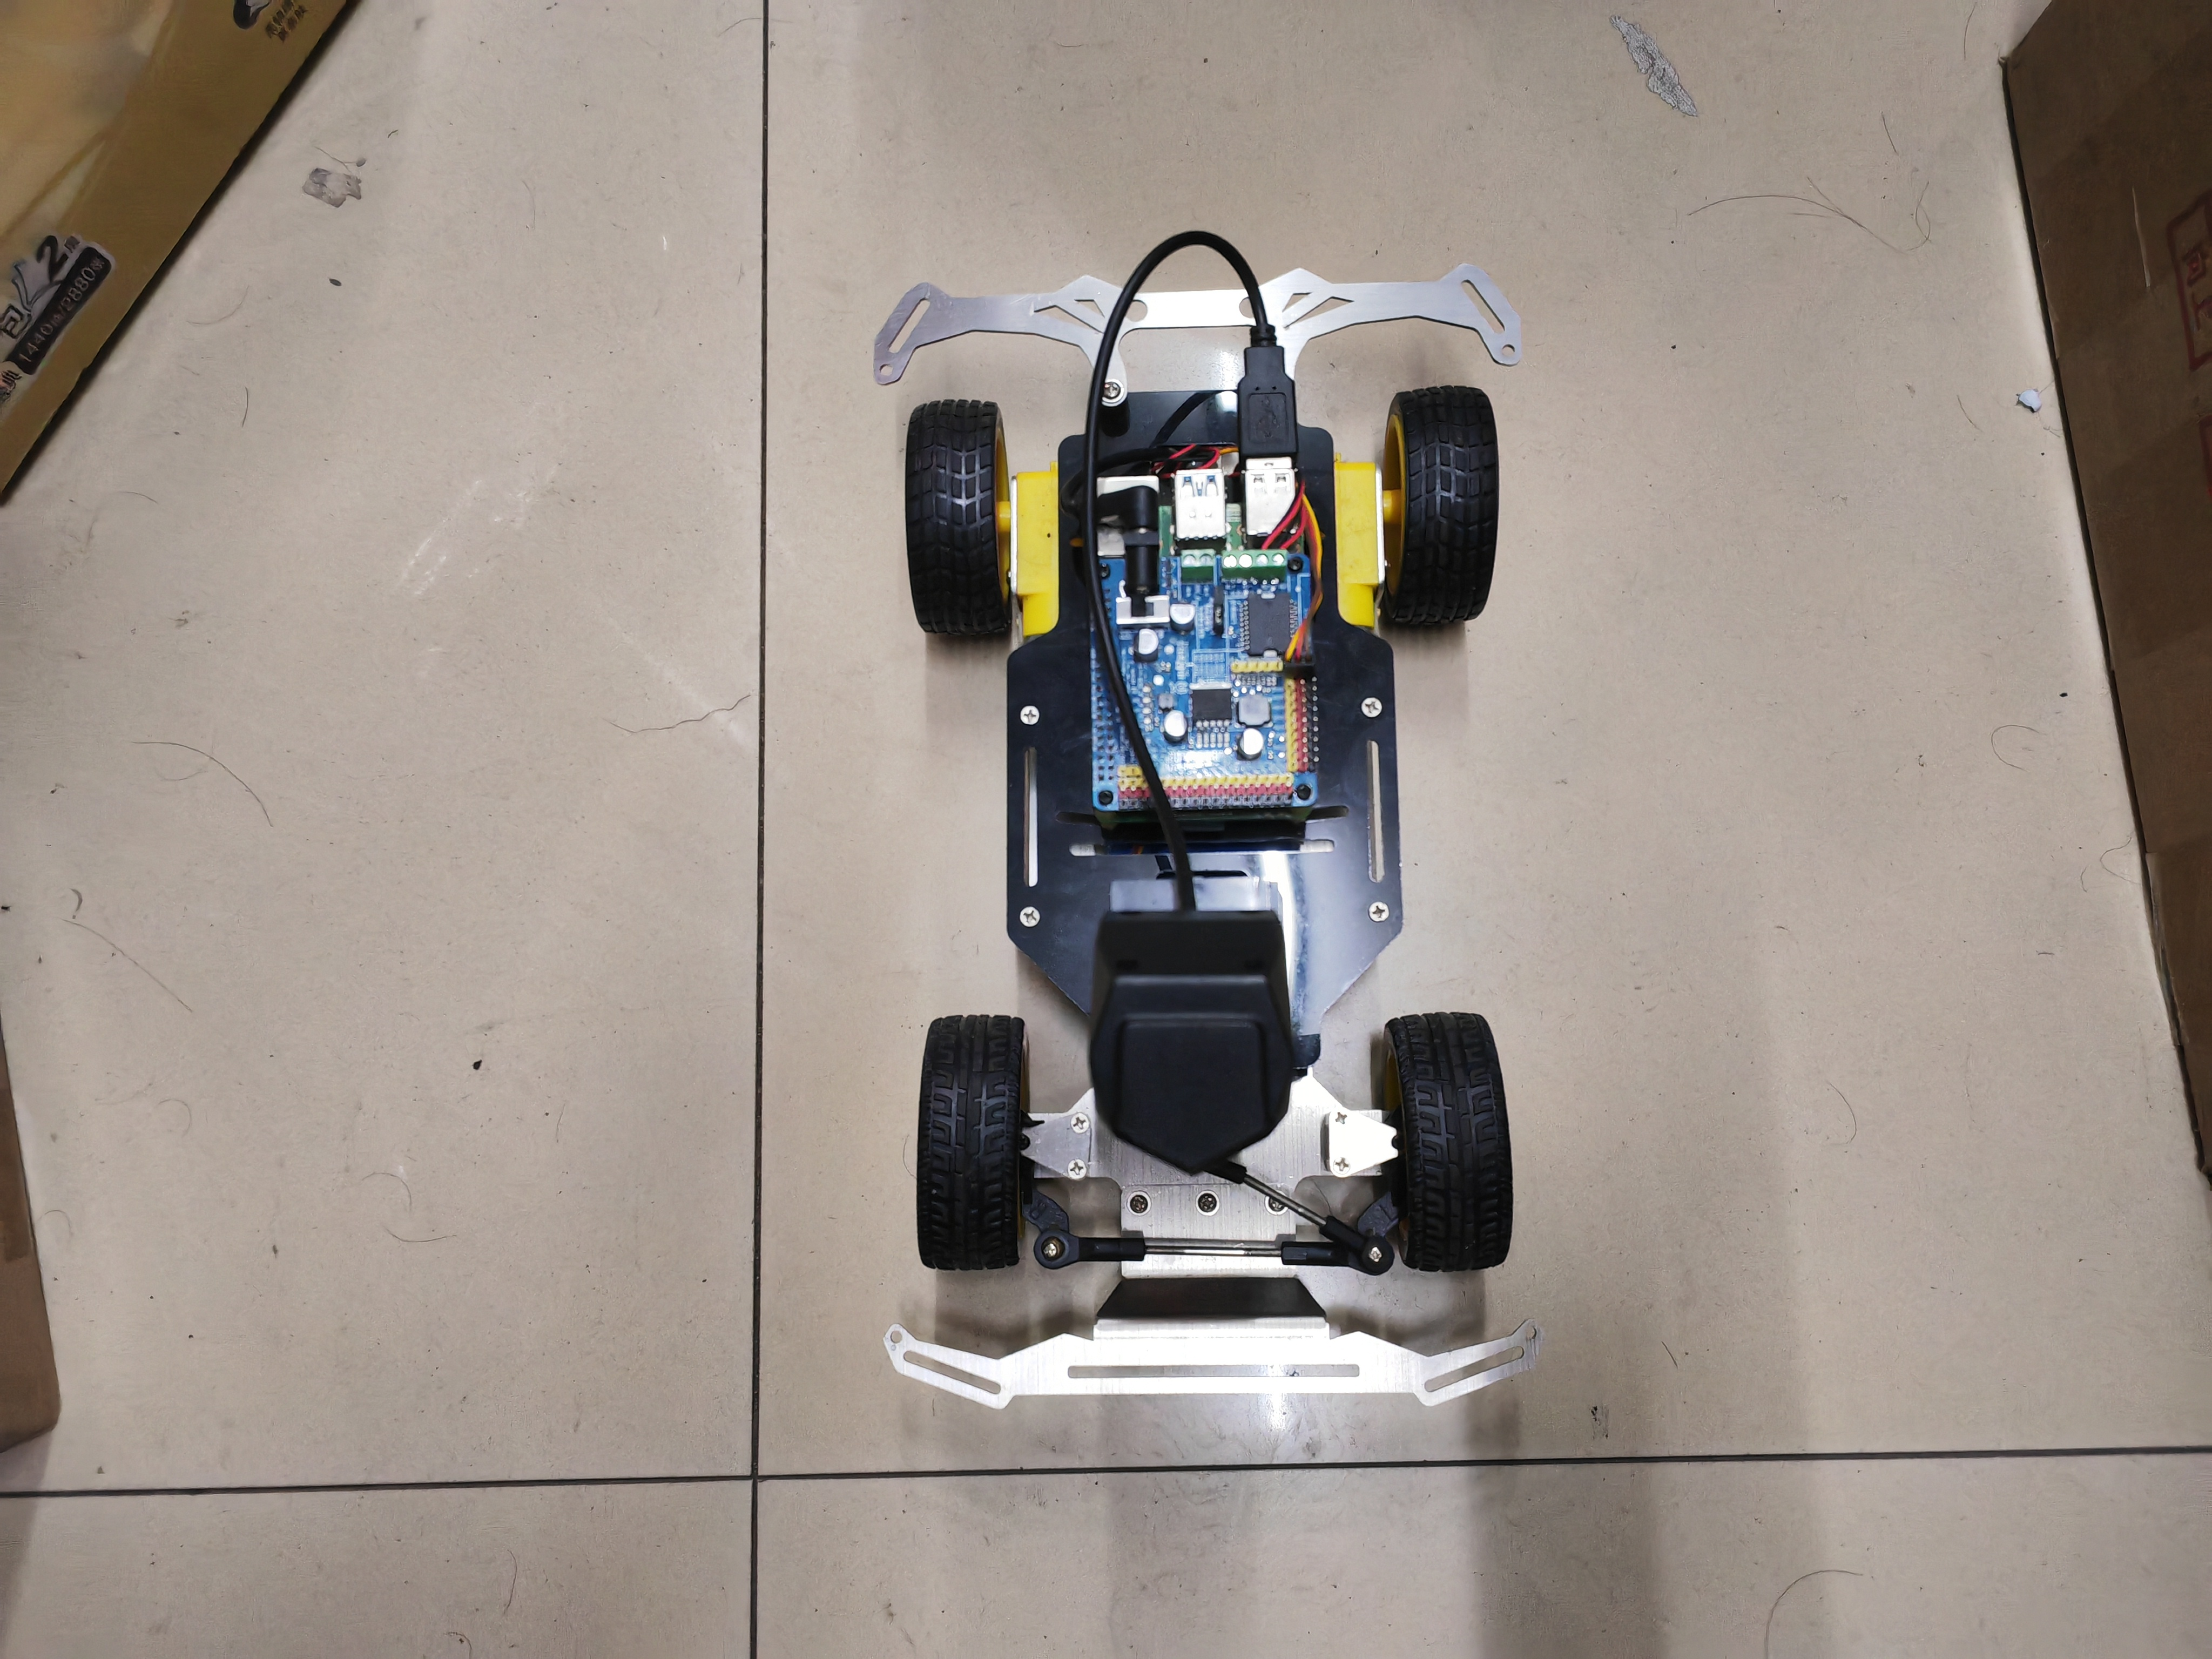car: (836, 213, 1557, 1457)
